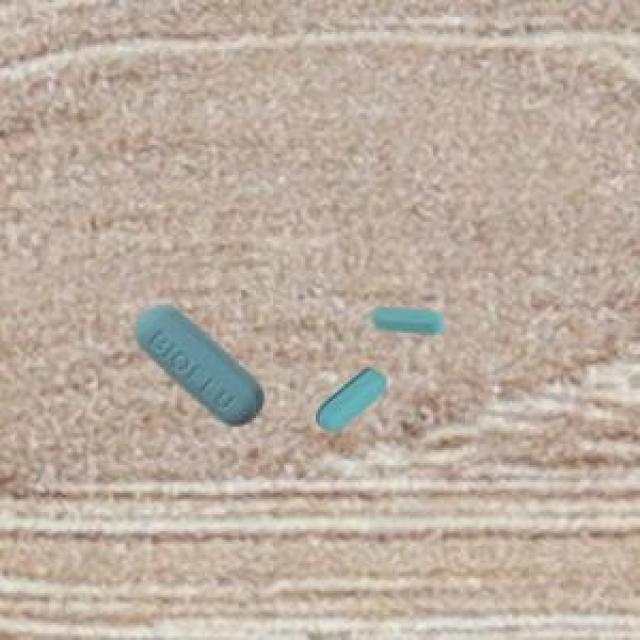Bioflu: (127, 290, 266, 436), (311, 364, 394, 444), (359, 291, 452, 345)
